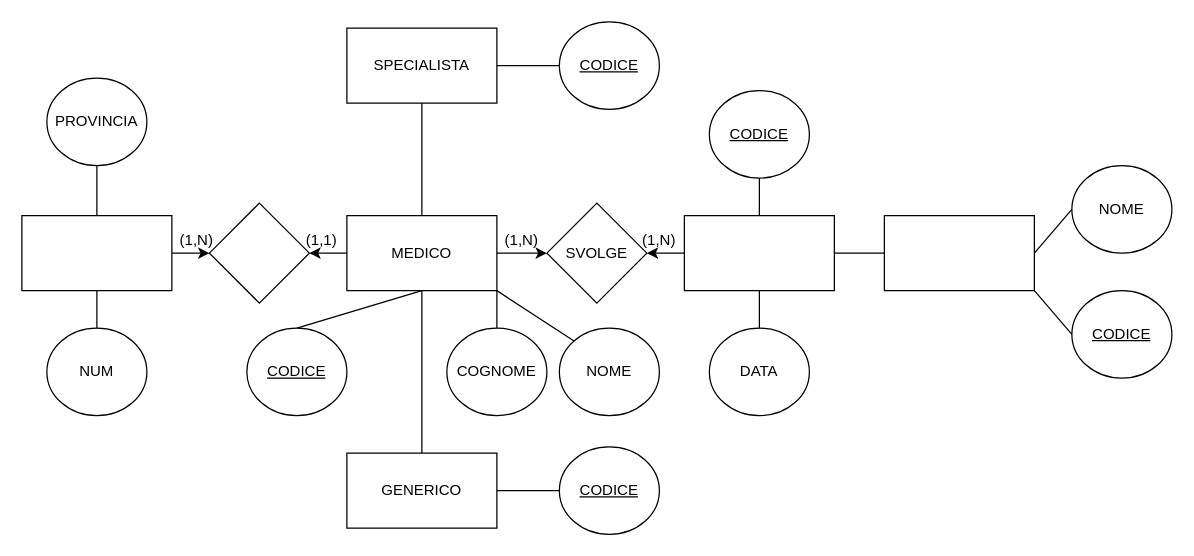
This 1194x556 diagram has some shape labels left out. The box of each missing label's shape, as (x1, y1, x2, y2) in pixels:
ESAME: (683, 214, 834, 291)
LAVORA: (208, 202, 309, 303)
TIPO DI ESAME: (883, 214, 1034, 291)
USL: (21, 214, 172, 291)
